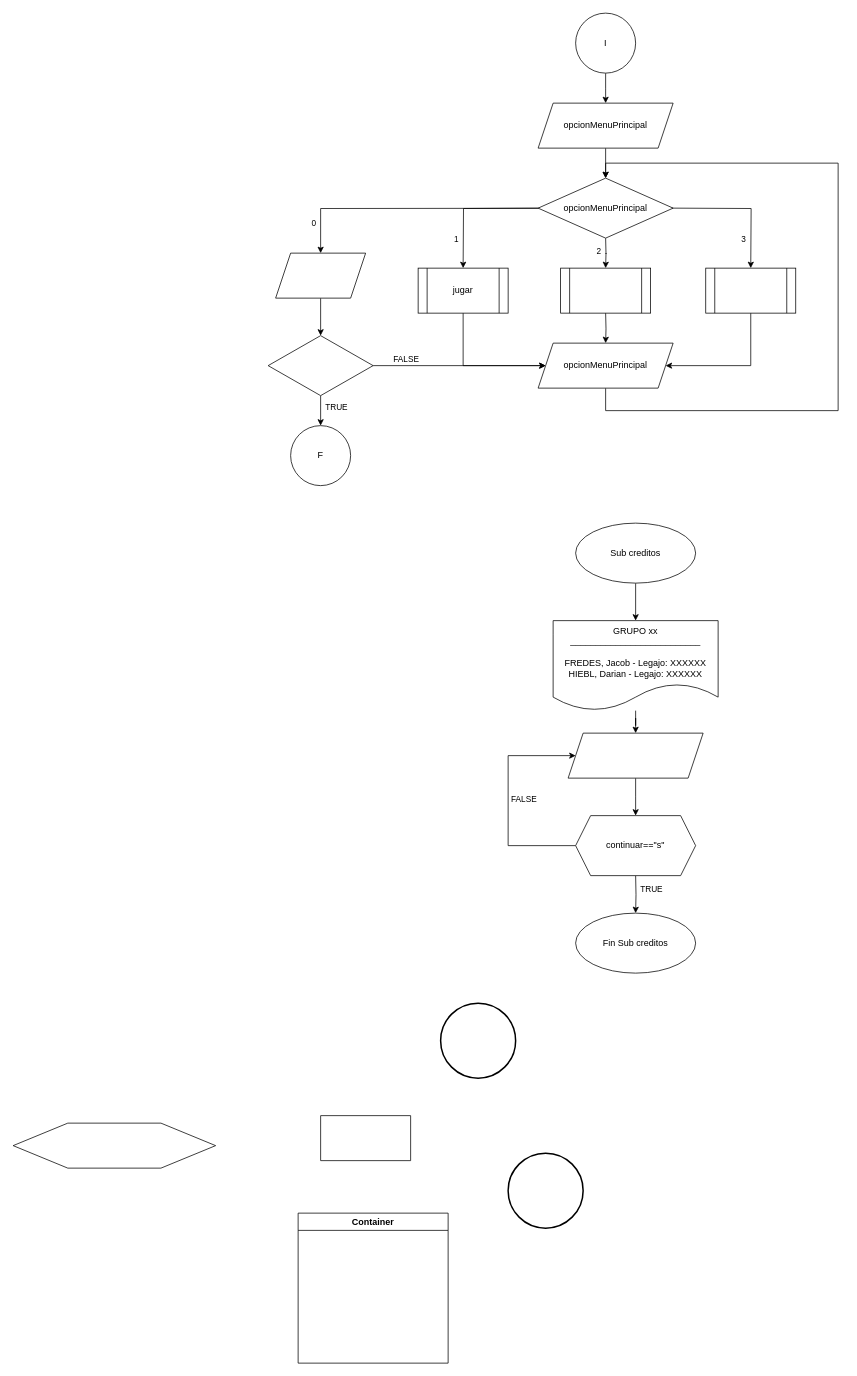
The diagram is 857 pixels wide and 1376 high, and some of its shapes have lost their labels. The shapes that lost their labels are listed below. From the top down, each one's centre as x and y in pixels, then its label:
(x=320, y=275): confirmar
(x=605, y=290): estadisticas
(x=750, y=290): creditos
(x=320, y=365): confirmar==0
(x=635, y=755): continuar
